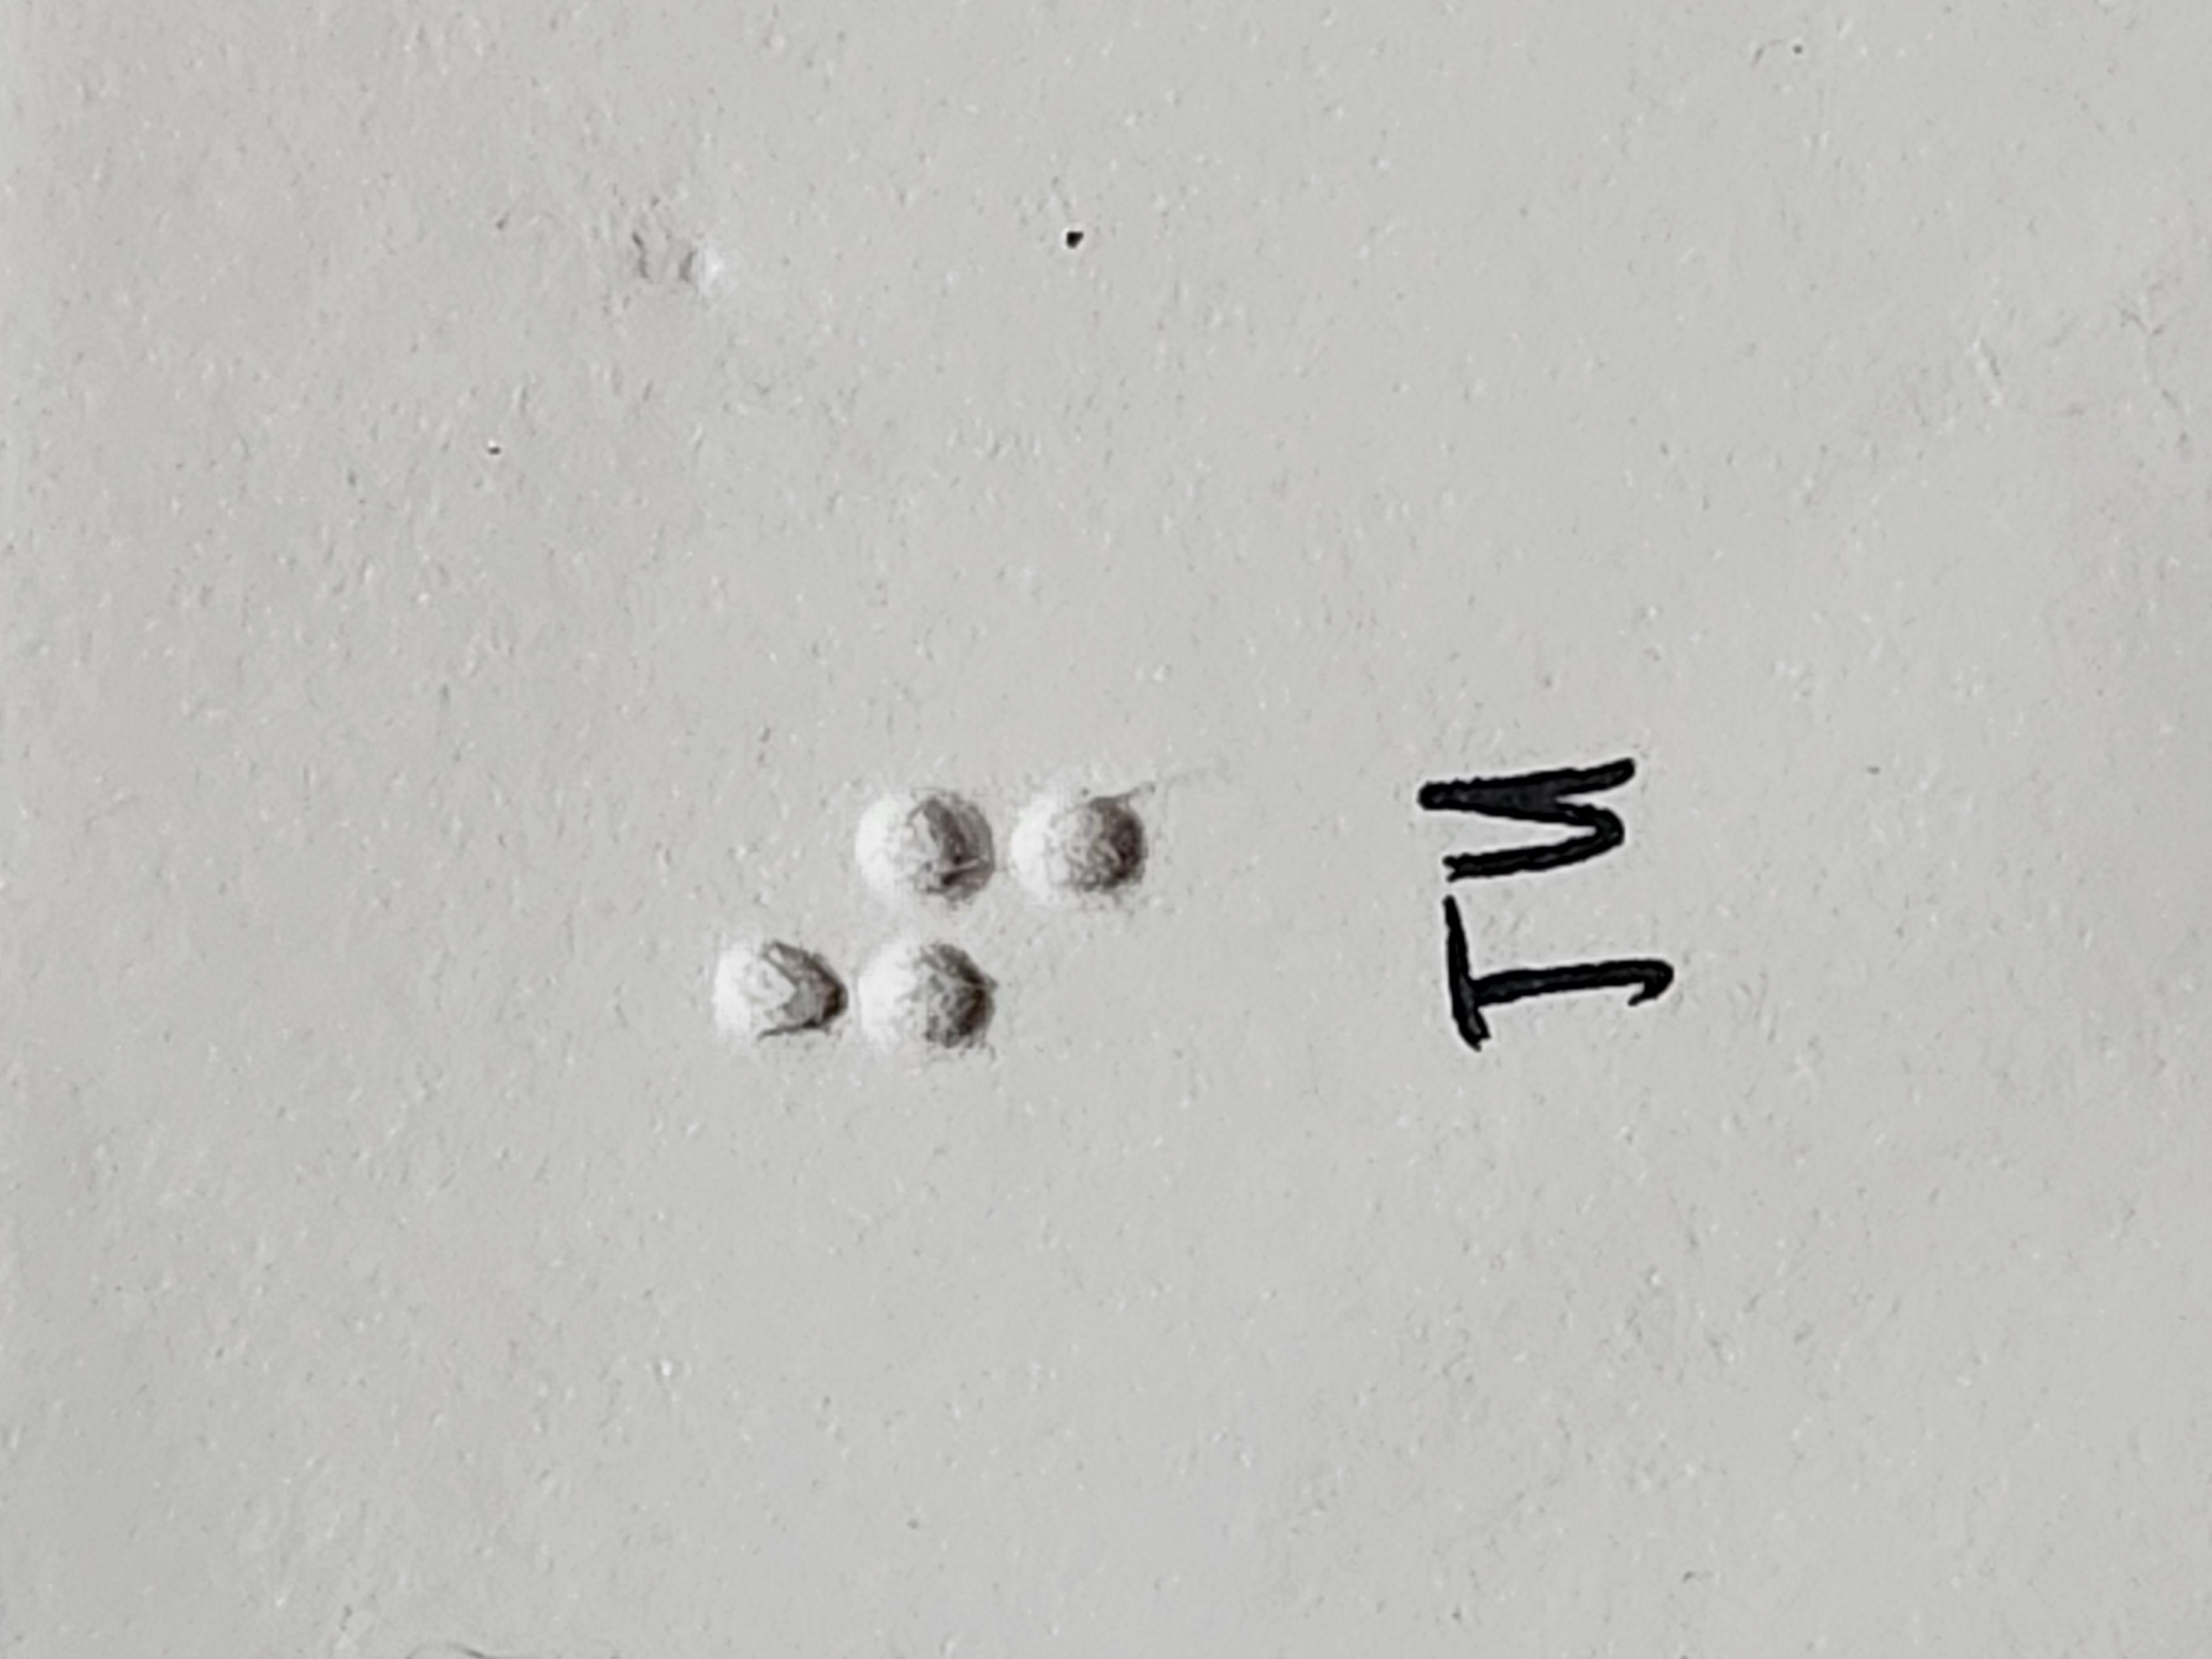one_cell_part_word_tu: (815, 533, 1153, 859)
